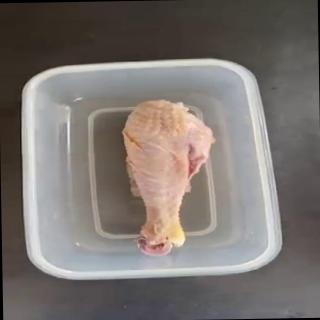Ayam: (121, 98, 219, 257)
